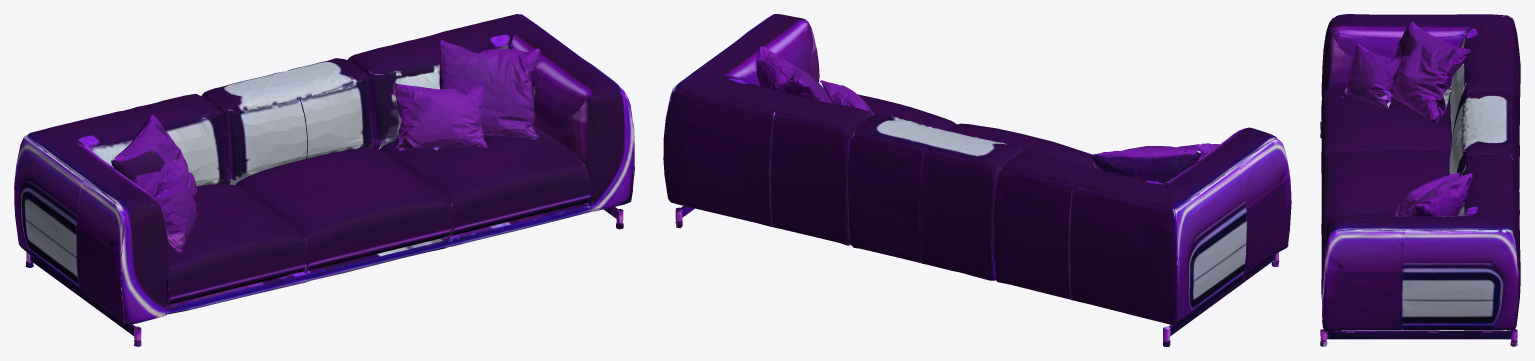
File: edited_mesh.glb
3 views of the same model, side by side, from view 1: azimuth 30°, elevation 25°; view 2: azimuth 150°, elevation 25°; view 3: azimuth 270°, elevation 25° (orthographic). The views are drawn at different scales.
Parts seen in each view (by area): view 1: solid_001_wire; view 2: solid_001_wire; view 3: solid_001_wire.
Part boxes in pixels (<box>): solid_001_wire: <box>14,14,634,346</box>; solid_001_wire: <box>663,14,1291,346</box>; solid_001_wire: <box>1320,14,1520,346</box>.
Size of the model in its own units: 2 by 0.5532 by 0.7635.
Materials: 1 (1 with a texture image).
